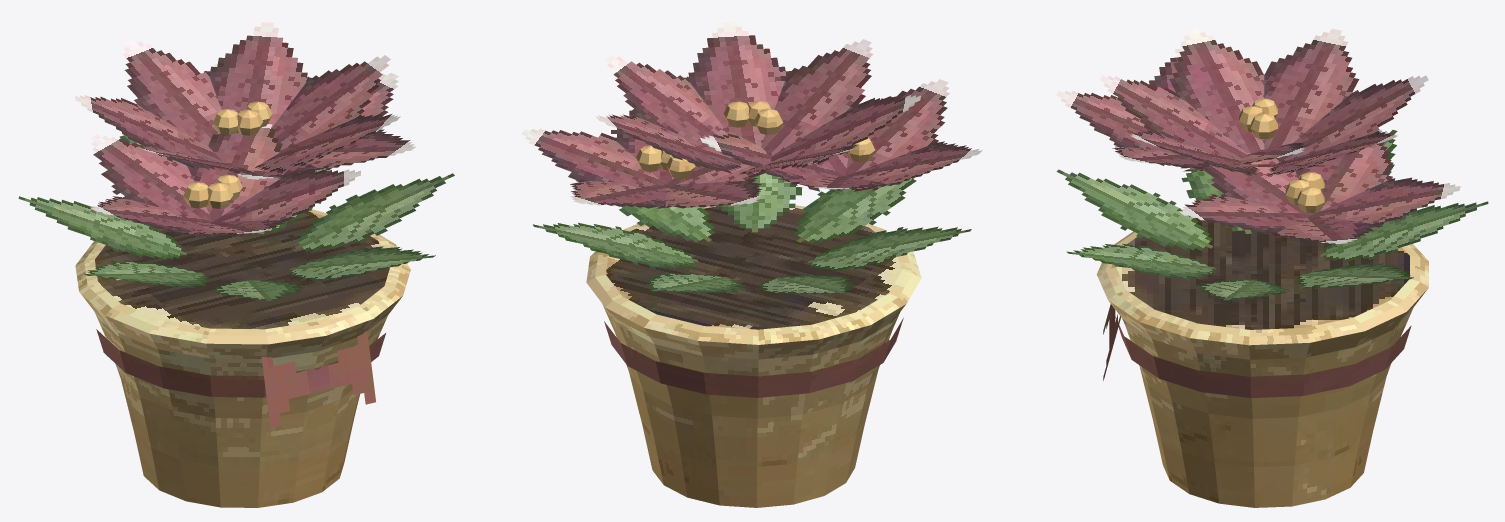
File: poinsettia.glb
3 views of the same model, side by side, from view 1: azimuth 30°, elevation 25°; view 2: azimuth 150°, elevation 25°; view 3: azimuth 270°, elevation 25° (orthographic).
Visible parts, largest first — view 1: static; view 2: static; view 3: static.
Part boxes in pixels (<box>): static: <box>18,22,454,507</box>; static: <box>521,22,982,507</box>; static: <box>1056,28,1488,507</box>.
Bounding box in the file's own units: 0.7504 × 0.6621 × 0.7234.
Materials: 2 (2 with a texture image).
